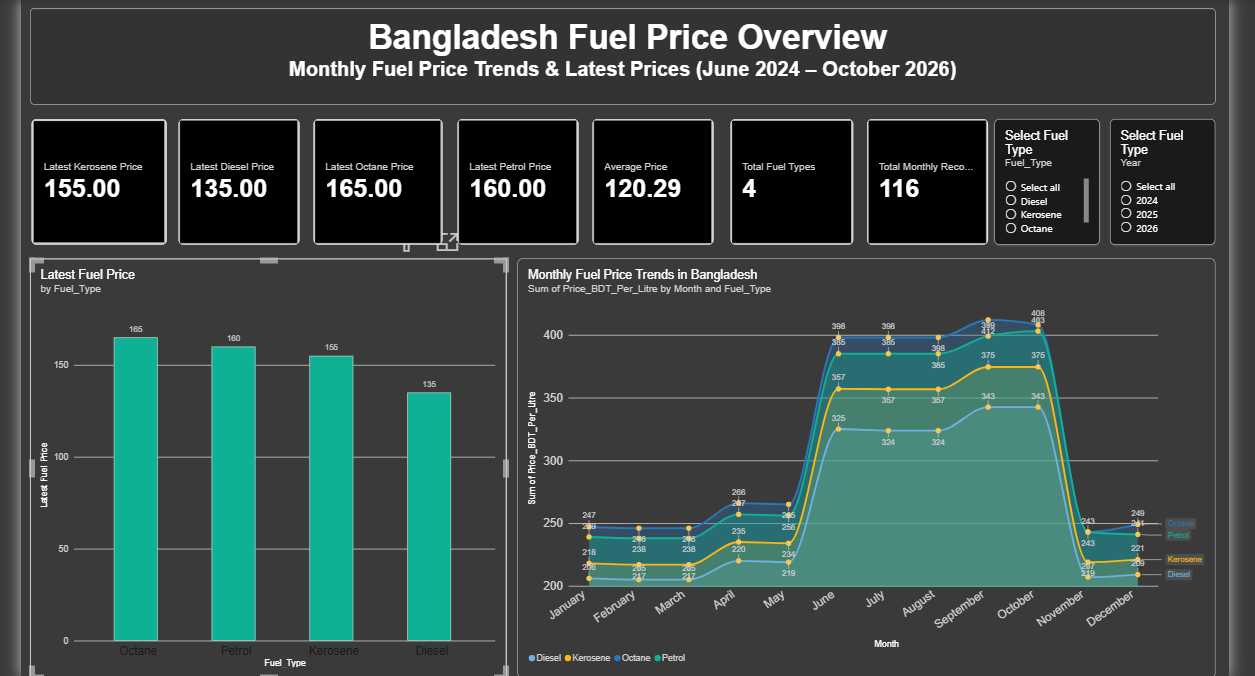

What the dashboard file says about the page in this screenshot:
{"tool":"powerbi","page":{"name":"Fuel Price Overview","canvas":[1920,1080],"ordinal":1},"visuals":[{"type":"cardVisual","fields":{"Data":["Table1.Latest Diesel Price"]},"box":[250.5,190.9,192.5,200],"z":0},{"type":"lineChart","title":"Monthly Fuel Price Trends in Bangladesh","fields":{"Category":["Table1.Month.Variation.Date Hierarchy.Month"],"Series":["Table1.Fuel_Type"],"Y":["Sum(Table1.Price_BDT_Per_Litre)"]},"box":[790,412.5,1110,667.5],"z":1000},{"type":"clusteredColumnChart","fields":{"Category":["Table1.Fuel_Type"],"Y":["Table1.Latest Fuel Price"]},"box":[15,412.5,757.5,667.5],"z":2000},{"type":"listSlicer","title":"Select Fuel Type","fields":{"Values":["Table1.Fuel_Type"]},"box":[1547.5,190,167.5,200],"z":3000},{"type":"textbox","box":[13.8,13.8,1886.2,153.8],"z":4000},{"type":"cardVisual","fields":{"Data":["Table1.Latest Octane Price"]},"box":[465.3,190.9,205,200],"z":5000},{"type":"cardVisual","fields":{"Data":["Table1.Total Fuel Types"]},"box":[1128.5,190.9,195,200],"z":6000},{"type":"cardVisual","fields":{"Data":["Table1.Total Monthly Records"]},"box":[1345.7,190.9,192.5,200],"z":7000},{"type":"cardVisual","fields":{"Data":["Table1.Latest Petrol Price"]},"box":[694.3,190.9,192.5,200],"z":8000},{"type":"cardVisual","fields":{"Data":["Table1.Latest Kerosene Price"]},"box":[16.7,190.8,215,200],"z":9000},{"type":"cardVisual","fields":{"Data":["Table1.Average Price"]},"box":[909,190.9,192.5,200],"z":10000},{"type":"listSlicer","title":"Select Fuel Type","fields":{"Values":["Table1.Month.Variation.Date Hierarchy.Year"]},"box":[1732.5,190,167.5,200],"z":11000}]}

Visuals, with their boxes on the page's 1920x1080 design canvas (x1, y1, x2, y2). These are canvas units, not pixel positions in the 1255x676 screenshot, which may show the page scaled, cropped or inside an application window:
cardVisual - Table1.Latest Diesel Price: bbox(250, 191, 443, 391)
"Monthly Fuel Price Trends in Bangladesh" lineChart: bbox(790, 412, 1900, 1080)
clusteredColumnChart - Table1.Fuel_Type x Table1.Latest Fuel Price: bbox(15, 412, 772, 1080)
"Select Fuel Type" listSlicer: bbox(1548, 190, 1715, 390)
textbox: bbox(14, 14, 1900, 168)
cardVisual - Table1.Latest Octane Price: bbox(465, 191, 670, 391)
cardVisual - Table1.Total Fuel Types: bbox(1128, 191, 1324, 391)
cardVisual - Table1.Total Monthly Records: bbox(1346, 191, 1538, 391)
cardVisual - Table1.Latest Petrol Price: bbox(694, 191, 887, 391)
cardVisual - Table1.Latest Kerosene Price: bbox(17, 191, 232, 391)
cardVisual - Table1.Average Price: bbox(909, 191, 1102, 391)
"Select Fuel Type" listSlicer: bbox(1732, 190, 1900, 390)
